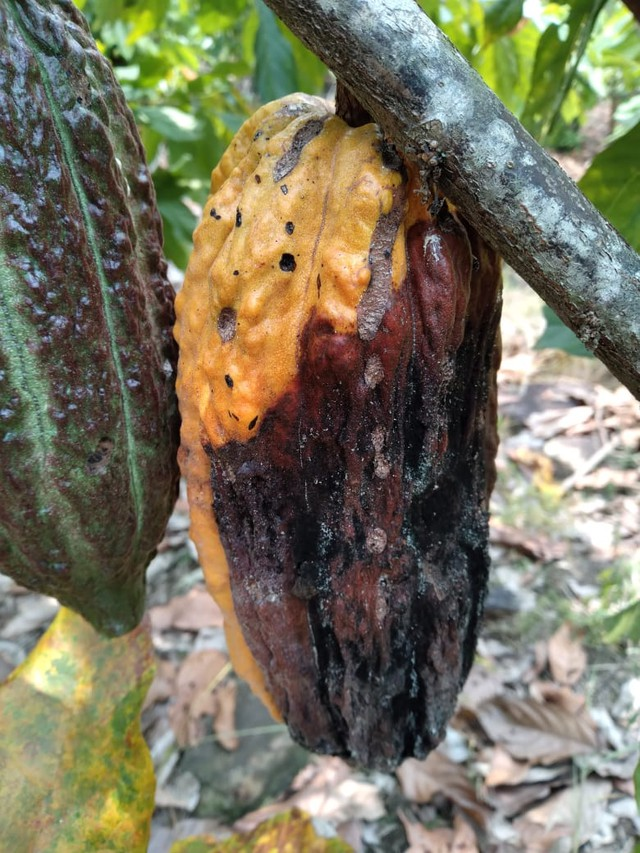moniliophthora roreri: (162, 77, 508, 783)
